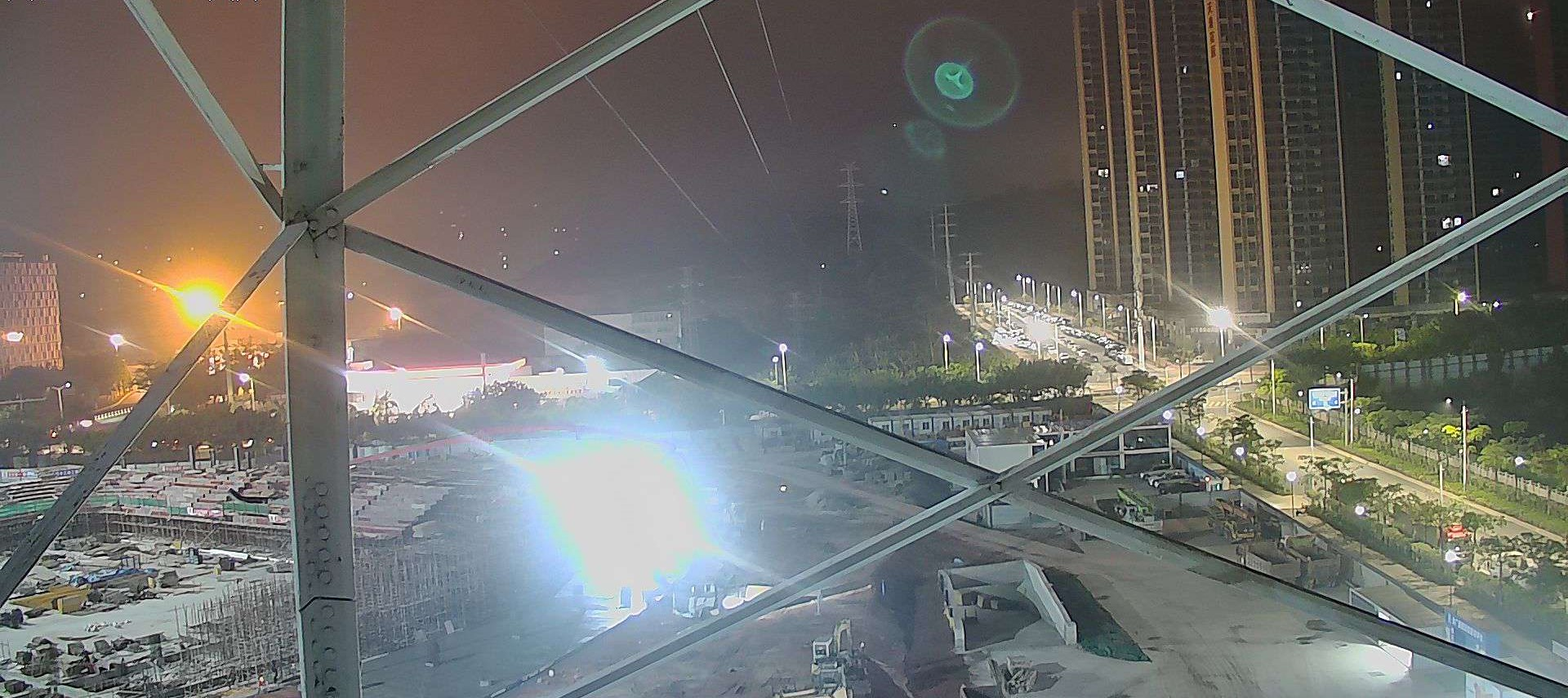过爆灯光: (524, 438, 715, 594), (346, 358, 525, 425), (173, 287, 222, 320), (583, 355, 608, 389), (7, 331, 22, 341), (79, 419, 91, 426)
